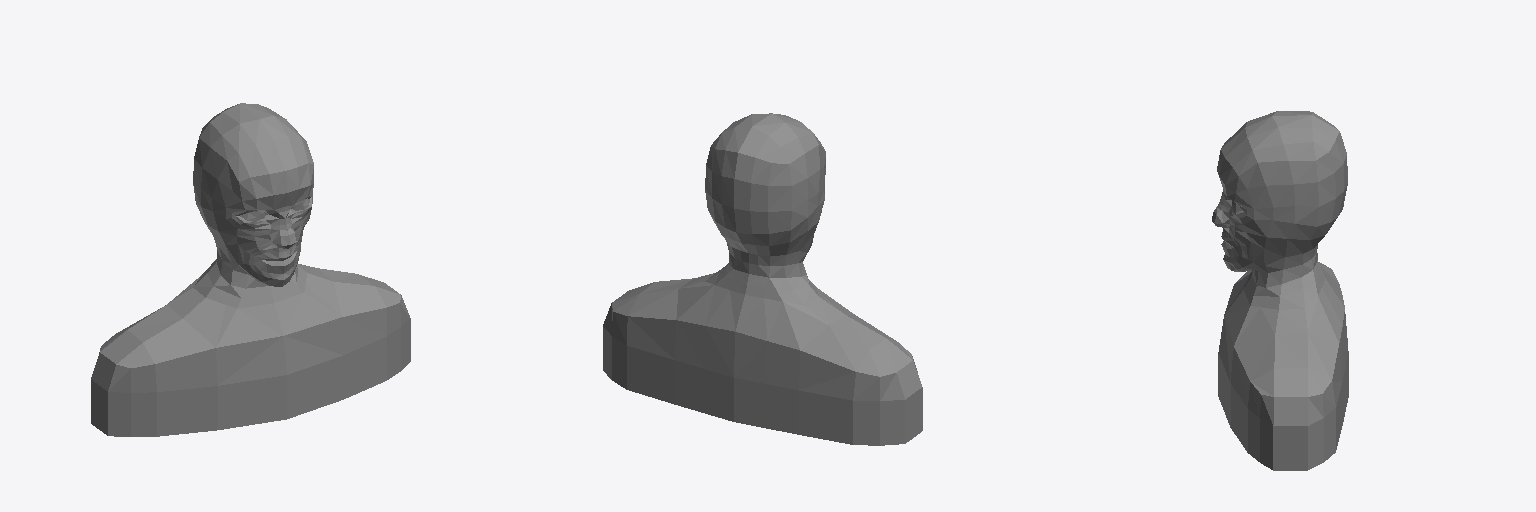
File: animacja.obj
3 renders of one model, left to right at view 1: azimuth 30°, elevation 25°; view 2: azimuth 150°, elevation 25°; view 3: azimuth 270°, elevation 25°, orthographic.
Visible parts, largest first — view 1: glowka; view 2: glowka; view 3: glowka.
Boxes of the visible parts, x1,y1,x2,y2 form: glowka: [91, 103, 410, 436]; glowka: [603, 113, 922, 445]; glowka: [1212, 111, 1348, 470].
Size of the model in its own units: 21.05 by 18.74 by 8.27.